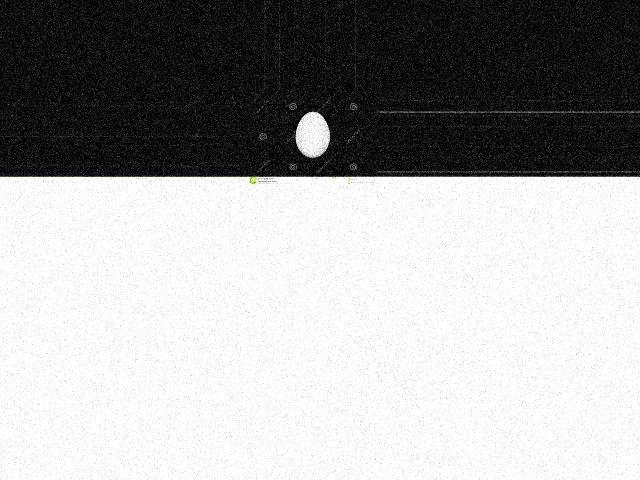egg: (296, 112, 331, 158)
